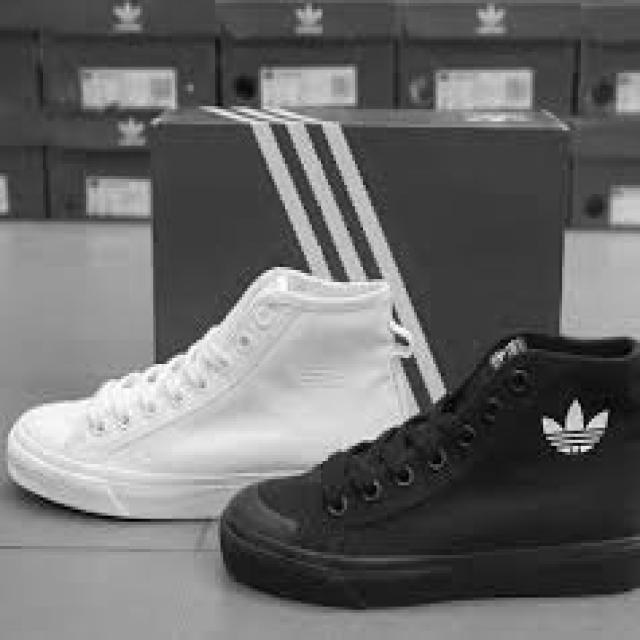Adidas: (535, 388, 618, 464), (116, 112, 154, 146), (295, 0, 334, 31), (110, 0, 156, 25), (476, 0, 512, 28)
